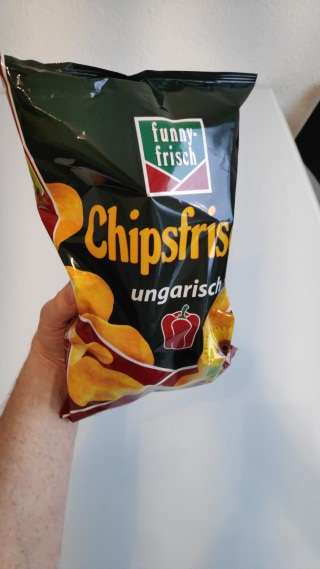chipsfrisch: (1, 53, 259, 423)
